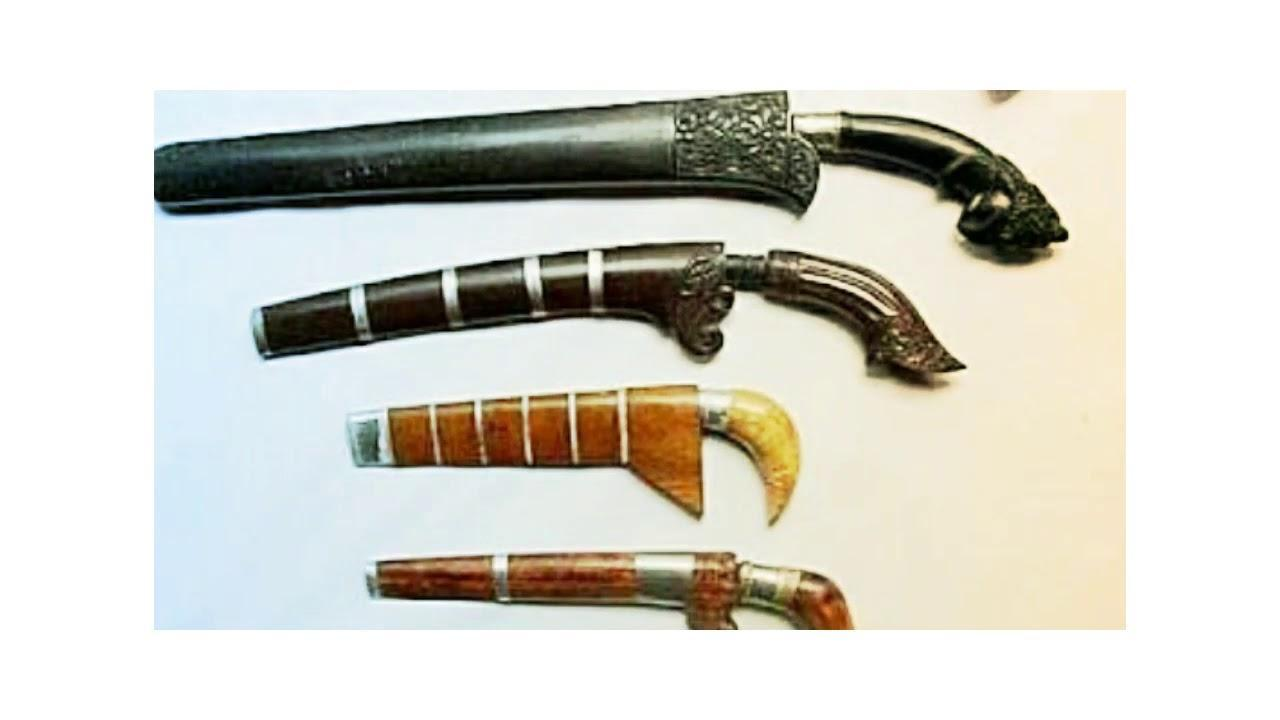espada: (151, 101, 1082, 260), (233, 238, 958, 393), (340, 382, 817, 534), (366, 548, 868, 636)
